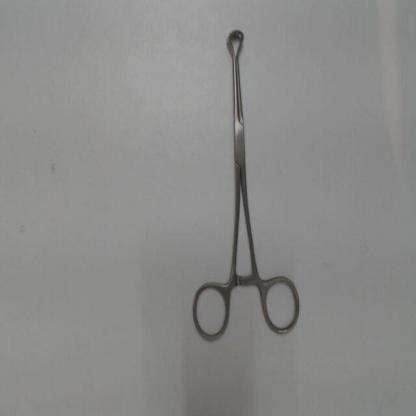Babcock Tissue Forceps: (186, 27, 305, 347)
